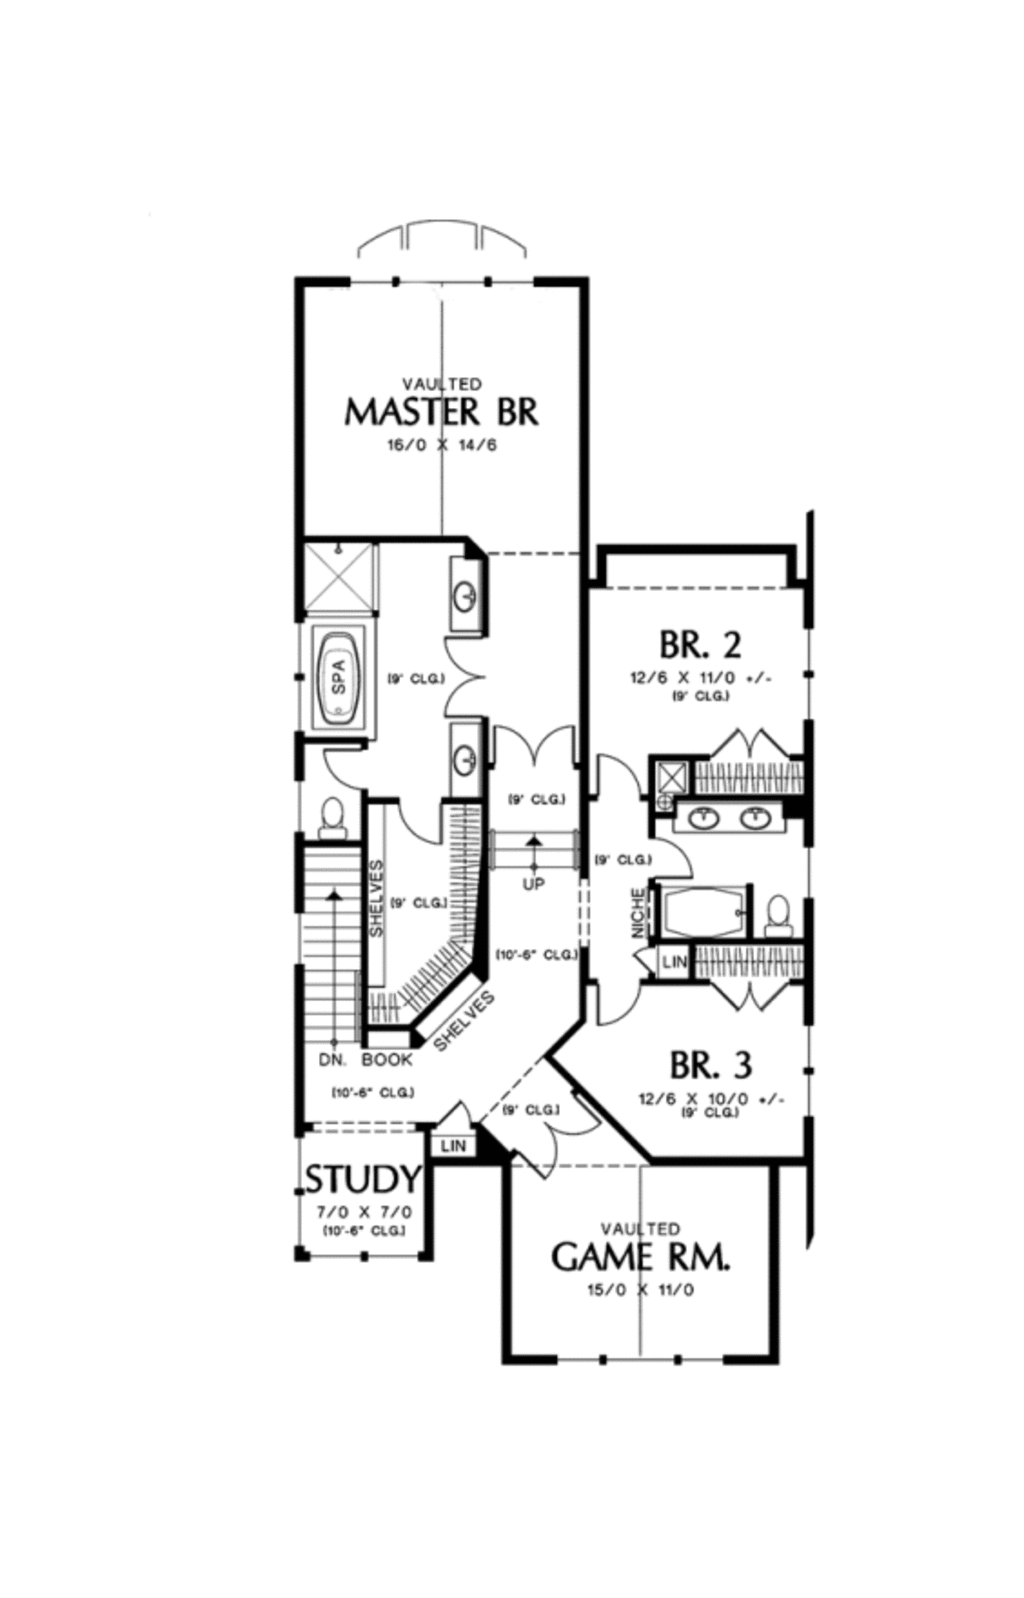door: (504, 1103, 617, 1183), (437, 628, 487, 720), (312, 738, 389, 796), (707, 717, 788, 765), (492, 724, 574, 770), (709, 975, 795, 1018), (397, 790, 452, 855), (582, 755, 644, 808), (594, 968, 642, 1033), (640, 833, 694, 881)
large_sink: (289, 789, 363, 853), (762, 888, 804, 950)
small_sink: (664, 798, 782, 833), (444, 558, 502, 628), (439, 720, 483, 808)
stairs: (294, 848, 377, 1068)
tub: (299, 625, 367, 733), (652, 885, 757, 938)
window: (792, 1013, 822, 1118), (544, 1353, 727, 1370), (292, 920, 312, 975)
